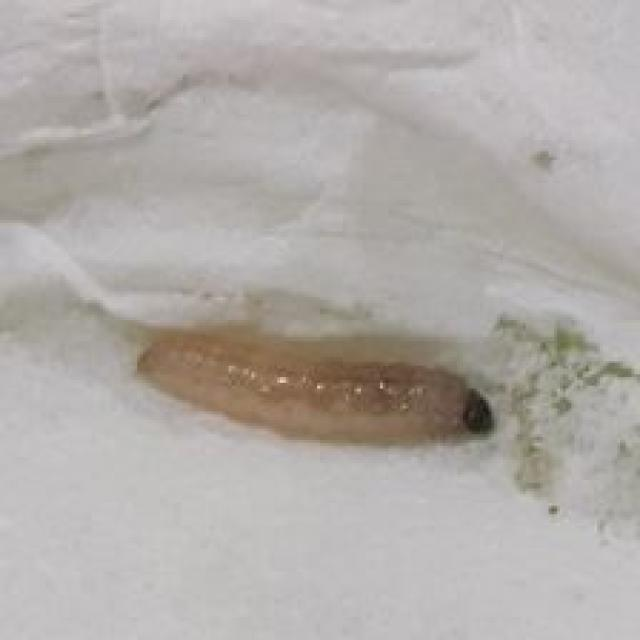white mucus: (123, 322, 517, 467)
